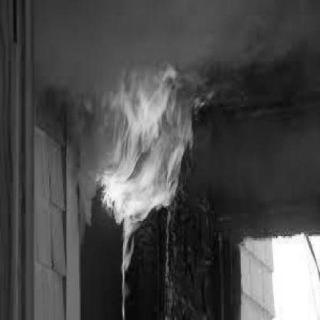Fire: (87, 60, 205, 316)
